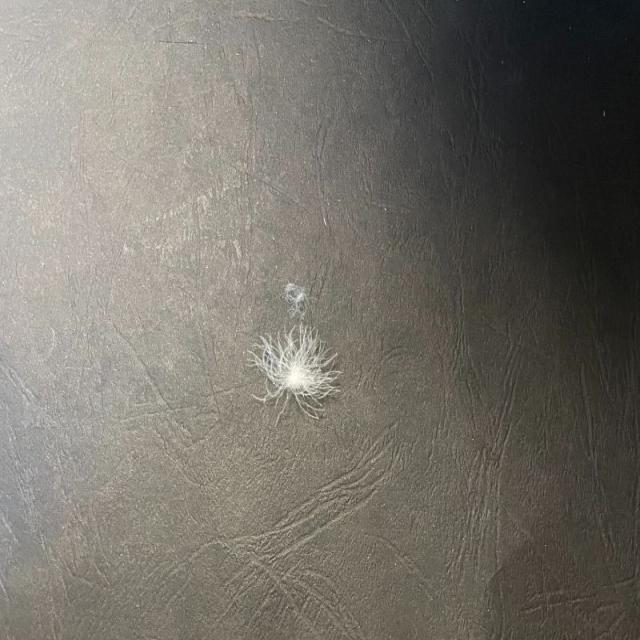feather: (248, 324, 343, 417), (280, 276, 310, 319)
